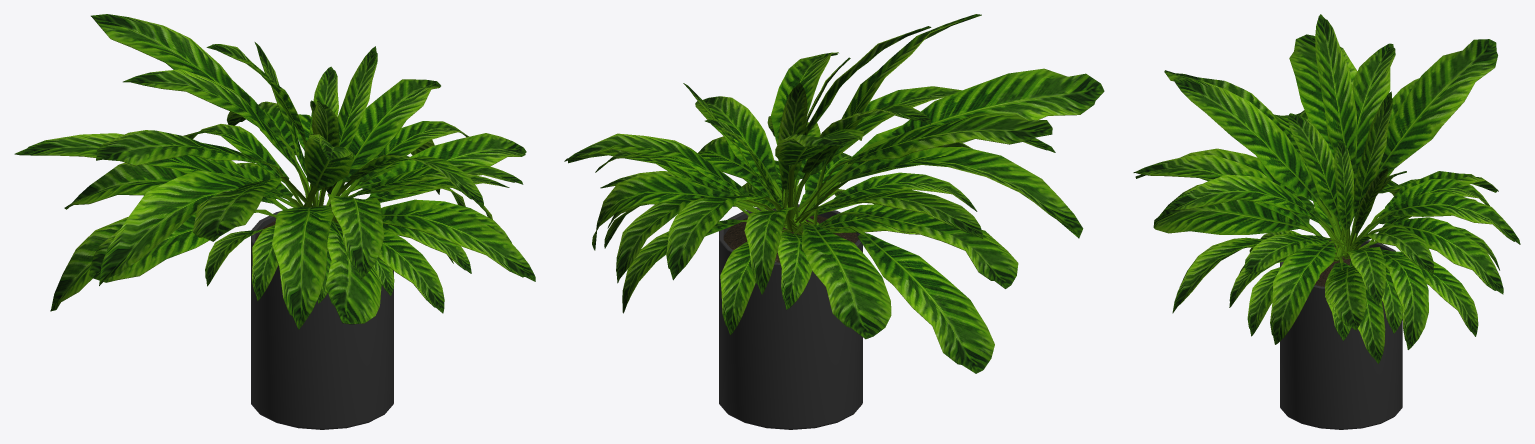
Rendered from plant02.gltf.
3 renders of one model, left to right at view 1: azimuth 30°, elevation 25°; view 2: azimuth 150°, elevation 25°; view 3: azimuth 270°, elevation 25°, orthographic. The views are drawn at different scales.
Parts seen in each view (by area): view 1: 2; view 2: 2; view 3: 2.
Part boxes in pixels (left/top/right/bottom): 2: left=14, top=14, right=535, bottom=429; 2: left=564, top=14, right=1104, bottom=429; 2: left=1133, top=14, right=1520, bottom=429.
Bounding box in the file's own units: 0.9744 × 0.7808 × 0.8125.
1 material, 1 textured.
